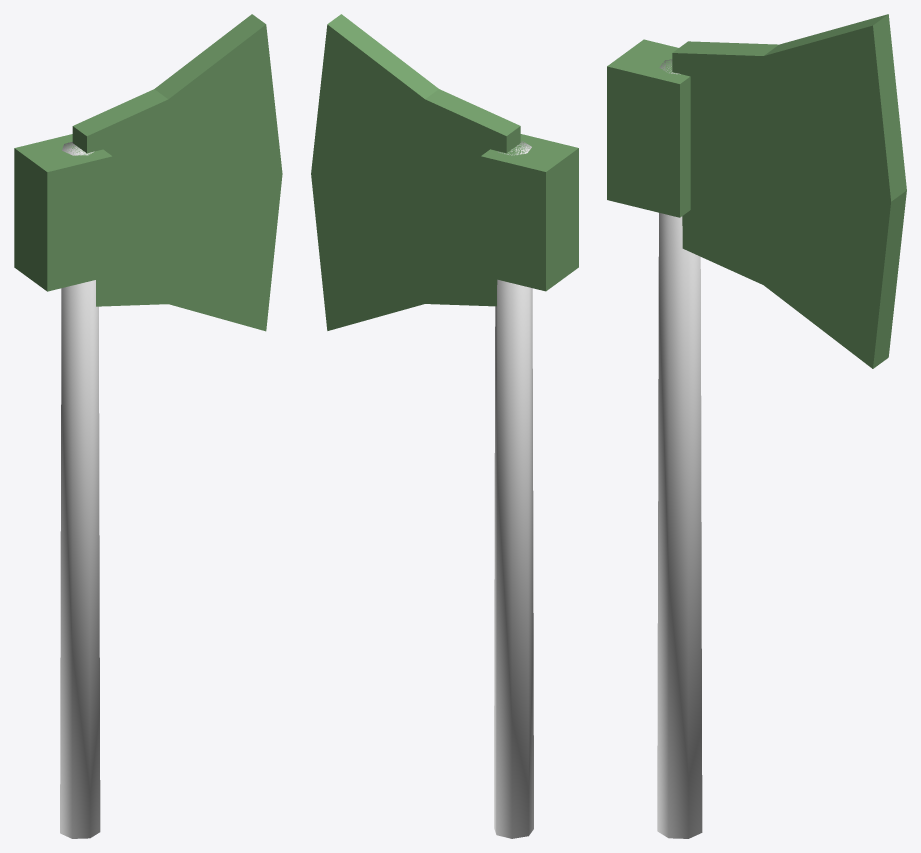
Rendered from tungsten_axe.glb.
The picture shows the model from 3 angles, left to right: view 1: azimuth 30°, elevation 25°; view 2: azimuth 150°, elevation 25°; view 3: azimuth 330°, elevation 25°; orthographic projection. The views are drawn at different scales.
Parts seen in each view (by area): view 1: tungsten_axe_v0; view 2: tungsten_axe_v0; view 3: tungsten_axe_v0.
Boxes of the visible parts, box(x1,y1,x2,y2) form: tungsten_axe_v0: box(14, 14, 282, 838); tungsten_axe_v0: box(311, 14, 578, 838); tungsten_axe_v0: box(607, 14, 906, 838).
Bounding box in the file's own units: 0.3 × 0.9 × 0.07.
